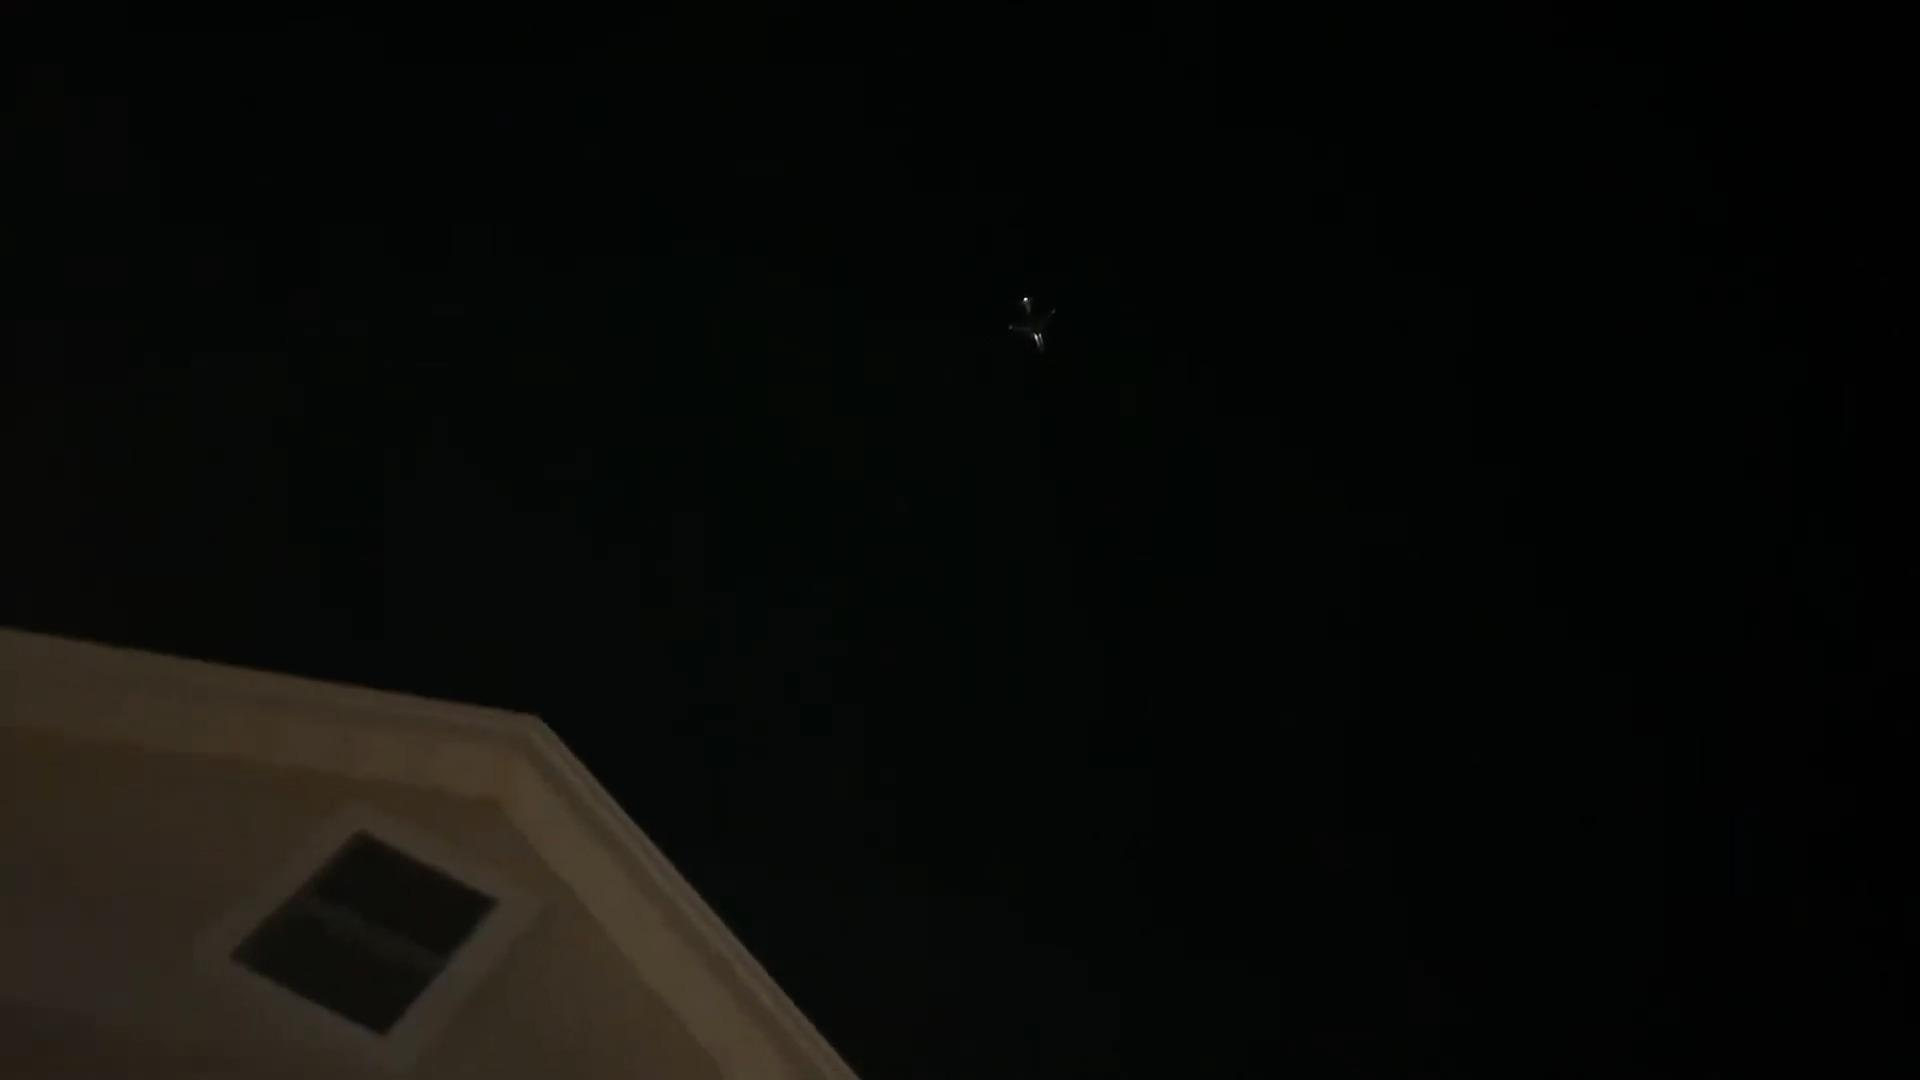Plane: (956, 276, 1105, 372)
